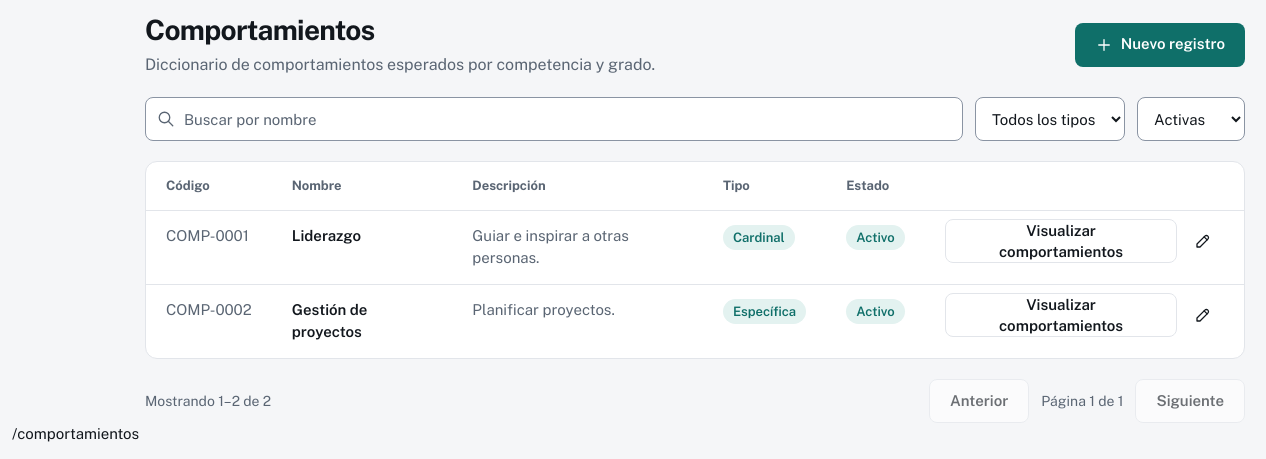
Scenario: ComportamientosPage › guarda búsqueda, tipo y estado en la URL y no escribe Activo
This screenshot has width=1266, height=459.
Expected: the column heading "Liderazgo" is shown, x1=272 y1=210 x2=452 y2=284
Select "Específica" in the 1st dropdown named "Filtrar por tipo" at point(1050, 119), box x1=975 y1=97 x2=1125 y2=141
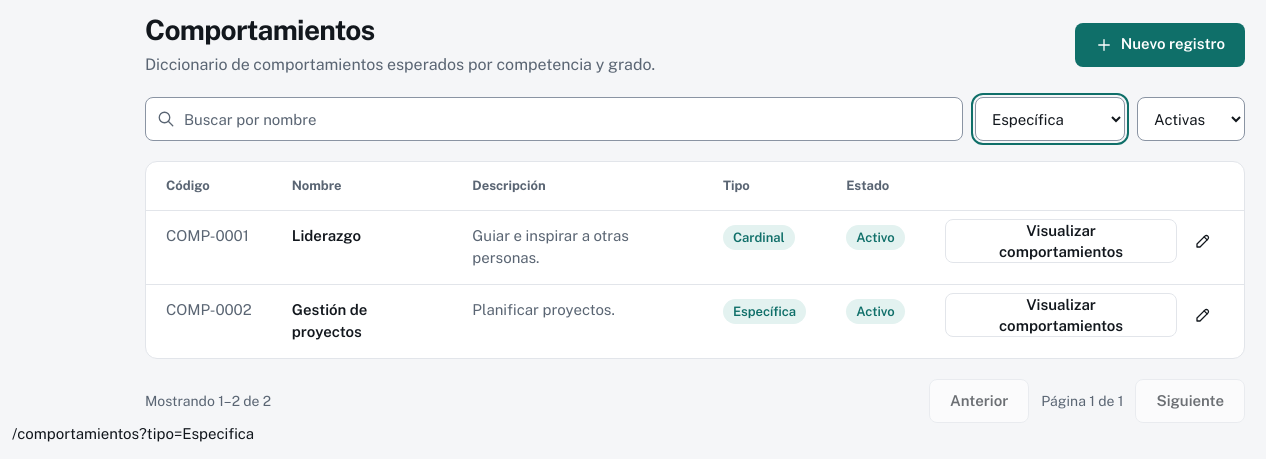
Select "Todas" in the 2nd dropdown named "Filtrar por estado" at point(1191, 119), box x1=1137 y1=97 x2=1245 y2=141
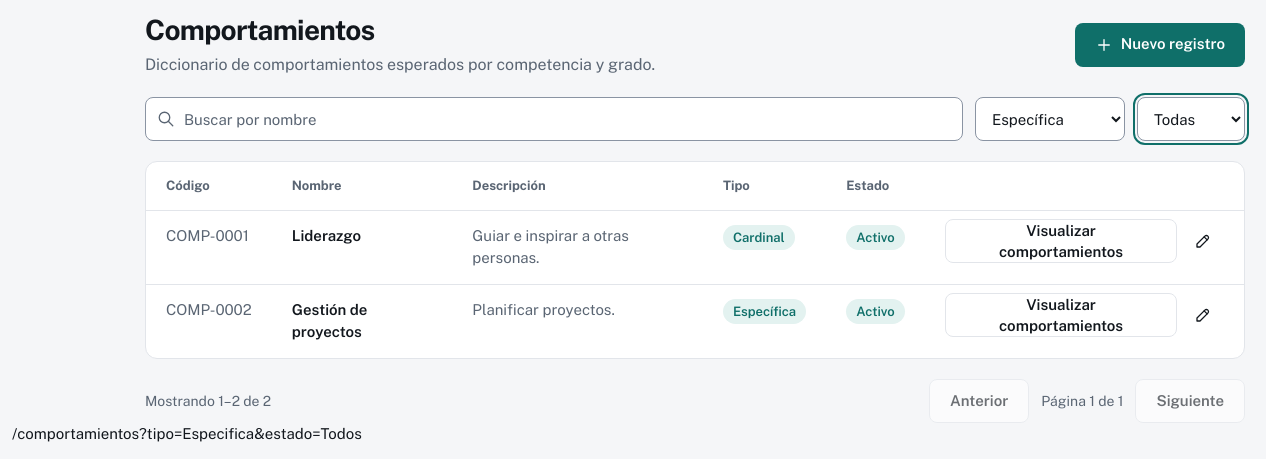
Expected: the text with test id "ubicacion" reads "/comportamientos?tipo=Especifica&estado=Todos", x1=12 y1=424 x2=362 y2=442
Select "Activas" in the 2nd dropdown named "Filtrar por estado" at point(1191, 119), box x1=1137 y1=97 x2=1245 y2=141
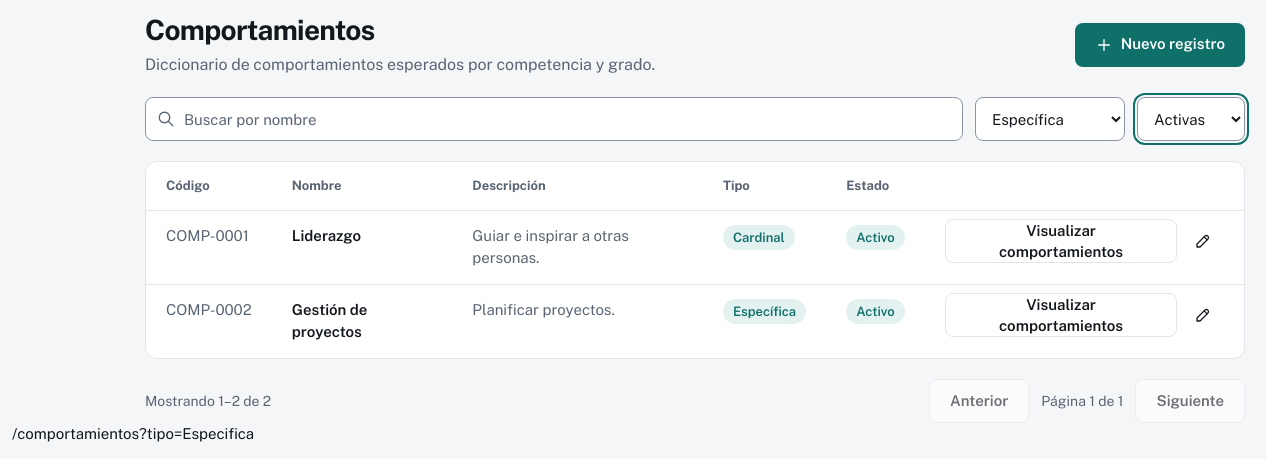
Expected: the text with test id "ubicacion" reads "/comportamientos?tipo=Especifica", x1=12 y1=424 x2=254 y2=442
Expected: the text with test id "ubicacion" does not show "estado", x1=12 y1=424 x2=254 y2=442
Type "lider" into the search field named "Buscar por nombre de la competencia" at point(554, 119), box x1=145 y1=97 x2=963 y2=141
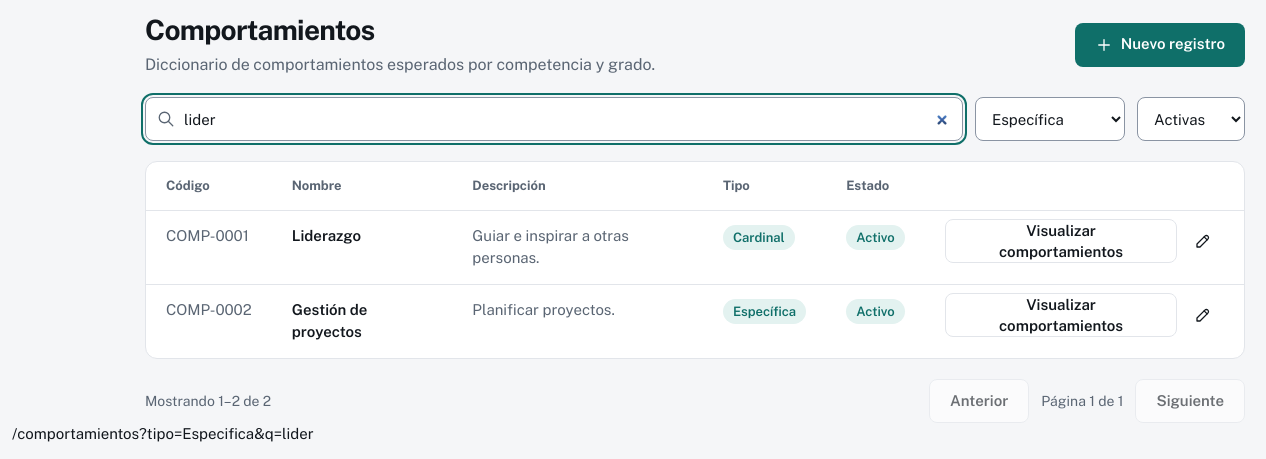
Expected: the text with test id "ubicacion" shows "q=lider", x1=12 y1=424 x2=314 y2=442
